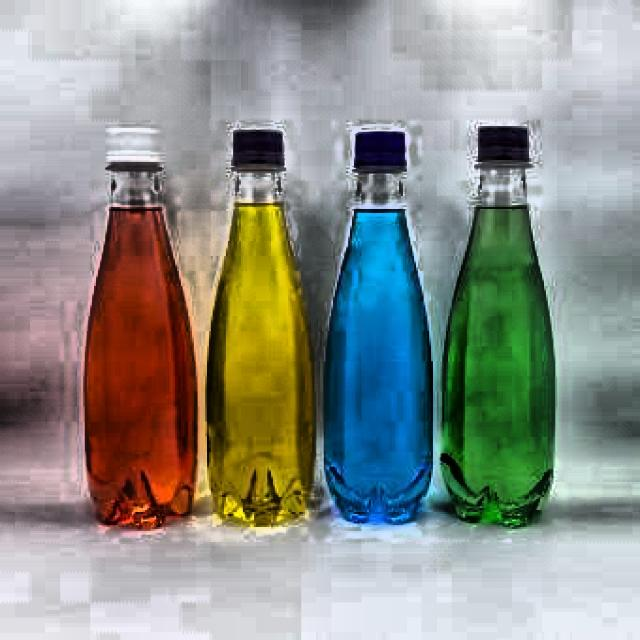Bottles: (181, 80, 332, 535), (62, 110, 207, 570), (428, 70, 566, 550), (305, 105, 448, 547)
